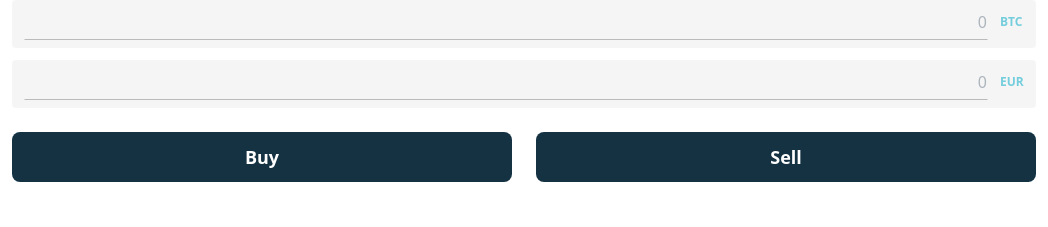
Test case: CoinTradePanel › shows not enough coins when sell exceeds holdings
In the field with placeholder "0" next to "BTC": (506, 22) [24, 4, 988, 40], type "1"
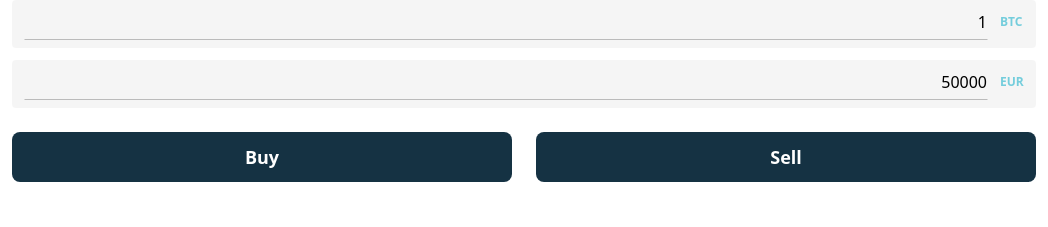
Click the button "Sell": click(786, 157) [536, 132, 1036, 182]
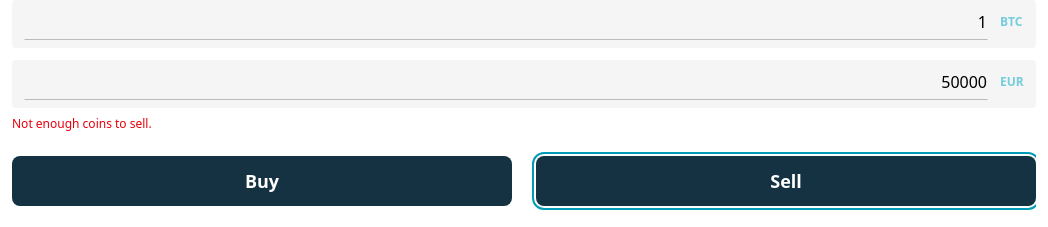
Now the text "Not enough coins to sell." is shown, box [12, 115, 152, 132]
